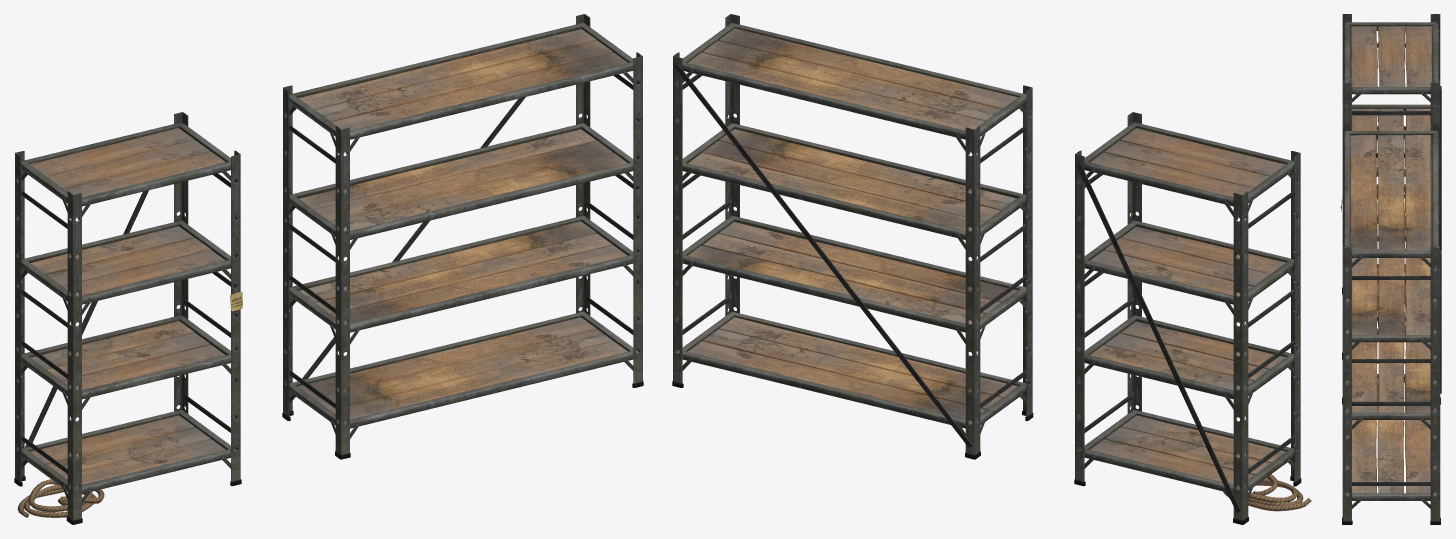
The model's file is estante.glb.
The picture shows the model from 3 angles, left to right: view 1: azimuth 30°, elevation 25°; view 2: azimuth 150°, elevation 25°; view 3: azimuth 270°, elevation 25°; orthographic projection. The views are drawn at different scales.
Visible parts, largest first — view 1: Shelf_02_B, Shelf_02_A; view 2: Shelf_02_B, Shelf_02_A; view 3: Shelf_02_B, Shelf_02_A.
Boxes of the visible parts, x1=… form: Shelf_02_B: x1=282, y1=14, x2=643, y2=459; Shelf_02_A: x1=14, y1=112, x2=242, y2=524; Shelf_02_B: x1=672, y1=14, x2=1033, y2=459; Shelf_02_A: x1=1074, y1=112, x2=1311, y2=524; Shelf_02_B: x1=1342, y1=124, x2=1441, y2=524; Shelf_02_A: x1=1340, y1=14, x2=1441, y2=359.
Size of the model in its own units: 3.59 by 1.88 by 0.6225.
1 material, 1 textured.
